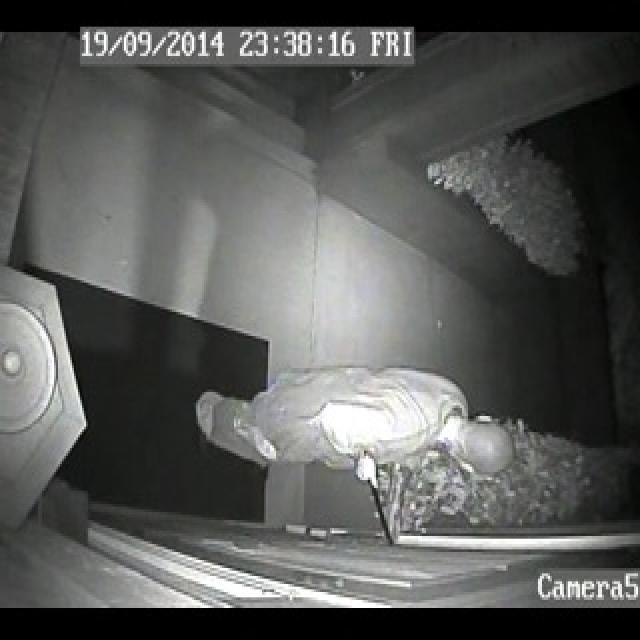thief: (194, 358, 520, 530)
